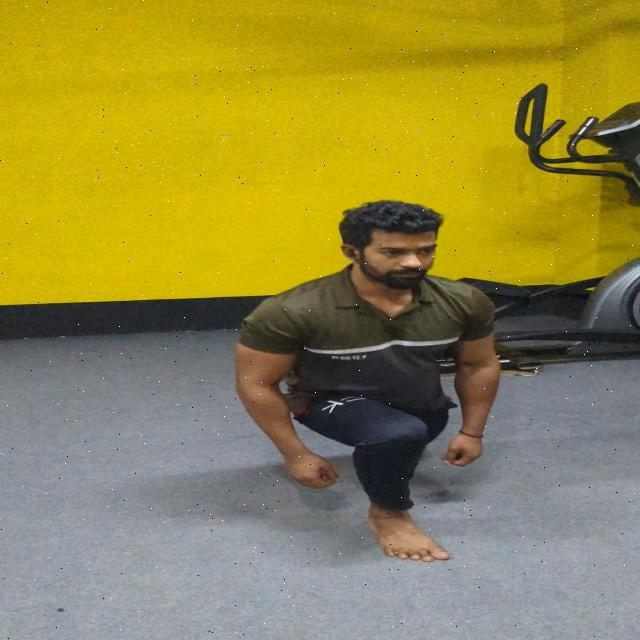Normal_Lunges: (67, 190, 585, 583)
